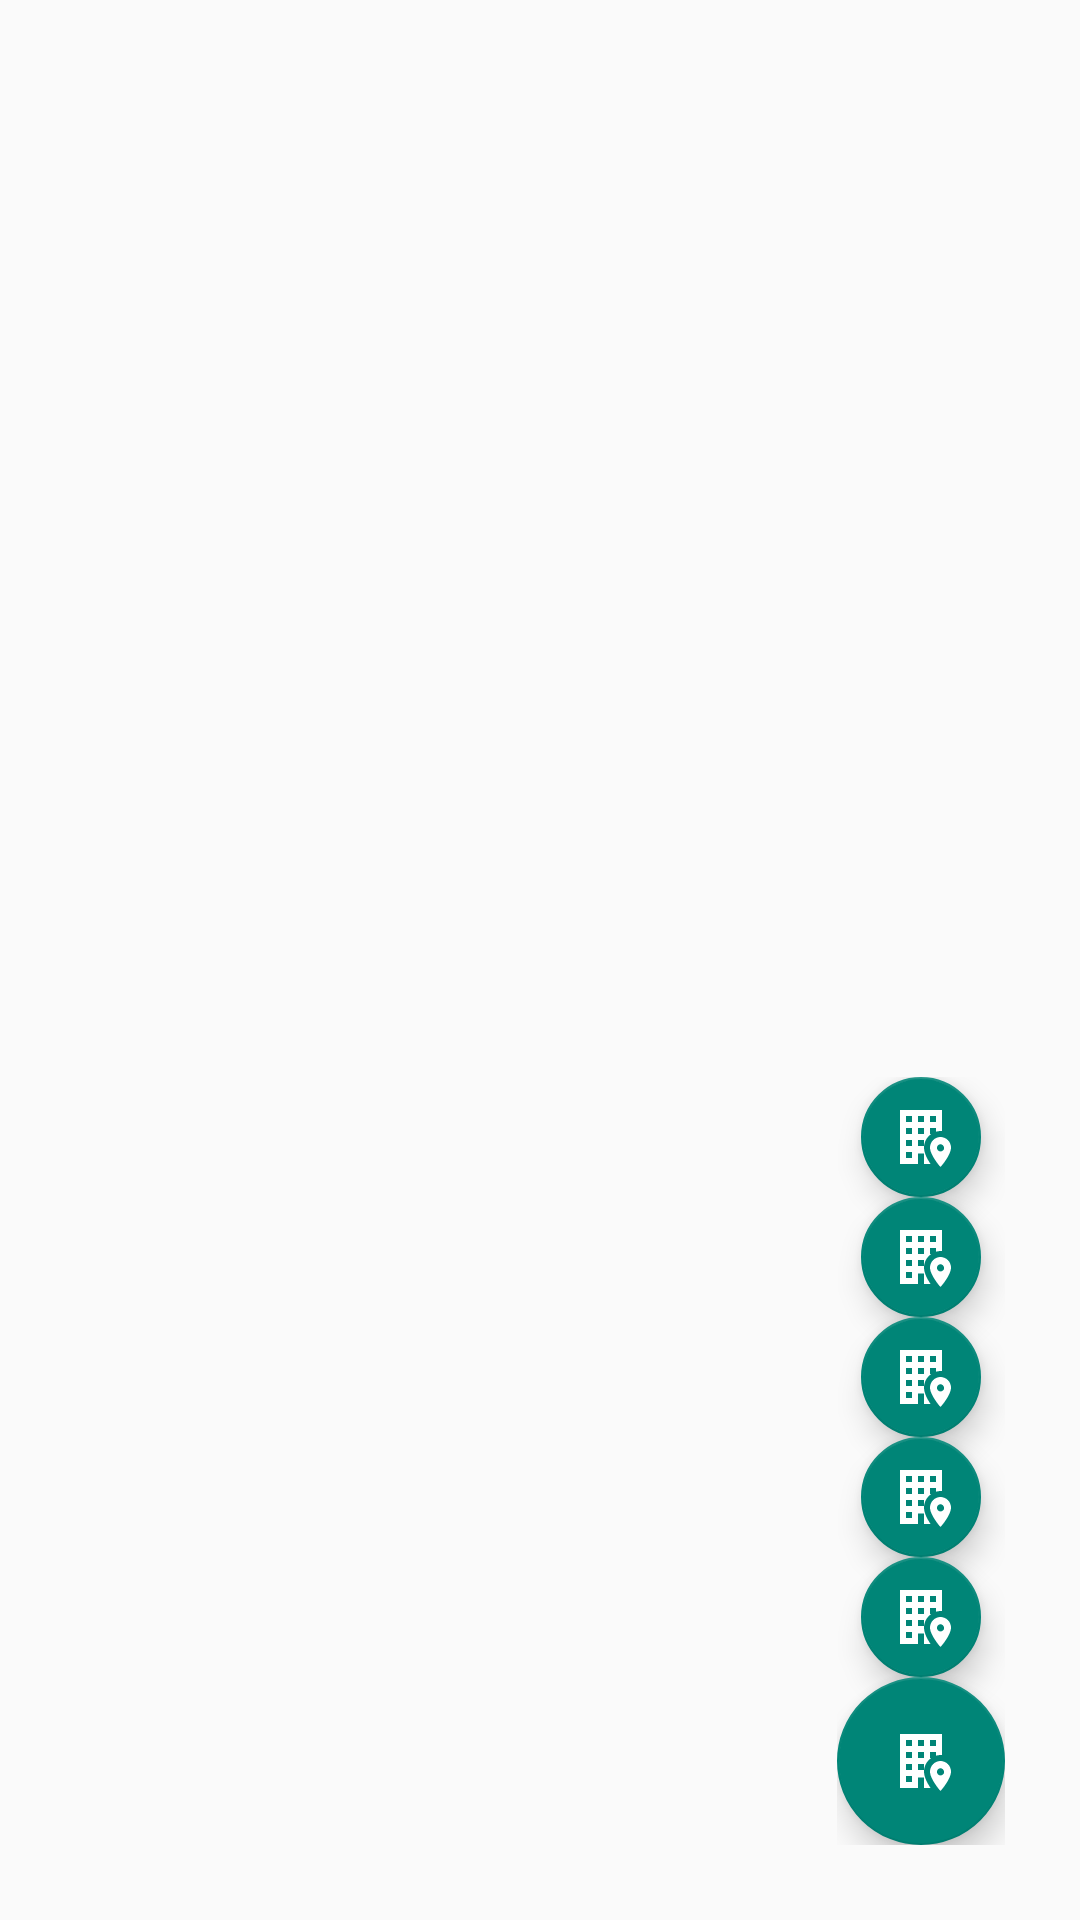

Icon bounding boxes for this 1080px×1920px phone screenshot, format bbox(x1, y1, x2, y2):
office building marker: bbox(861, 1077, 981, 1197), bbox(861, 1197, 981, 1317), bbox(861, 1317, 981, 1437), bbox(861, 1437, 981, 1557), bbox(861, 1557, 981, 1677), bbox(837, 1677, 1005, 1845)
